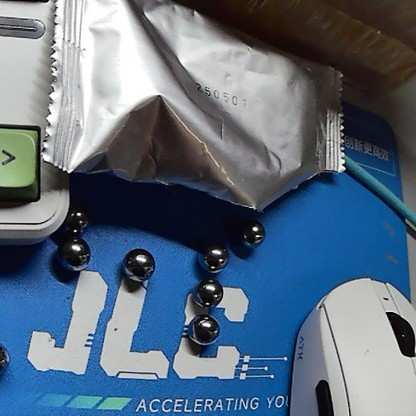ironball: (180, 310, 223, 351), (234, 217, 271, 253), (0, 323, 24, 378), (121, 244, 155, 282), (53, 203, 99, 231), (187, 277, 227, 309), (58, 241, 92, 274), (197, 241, 227, 270)
